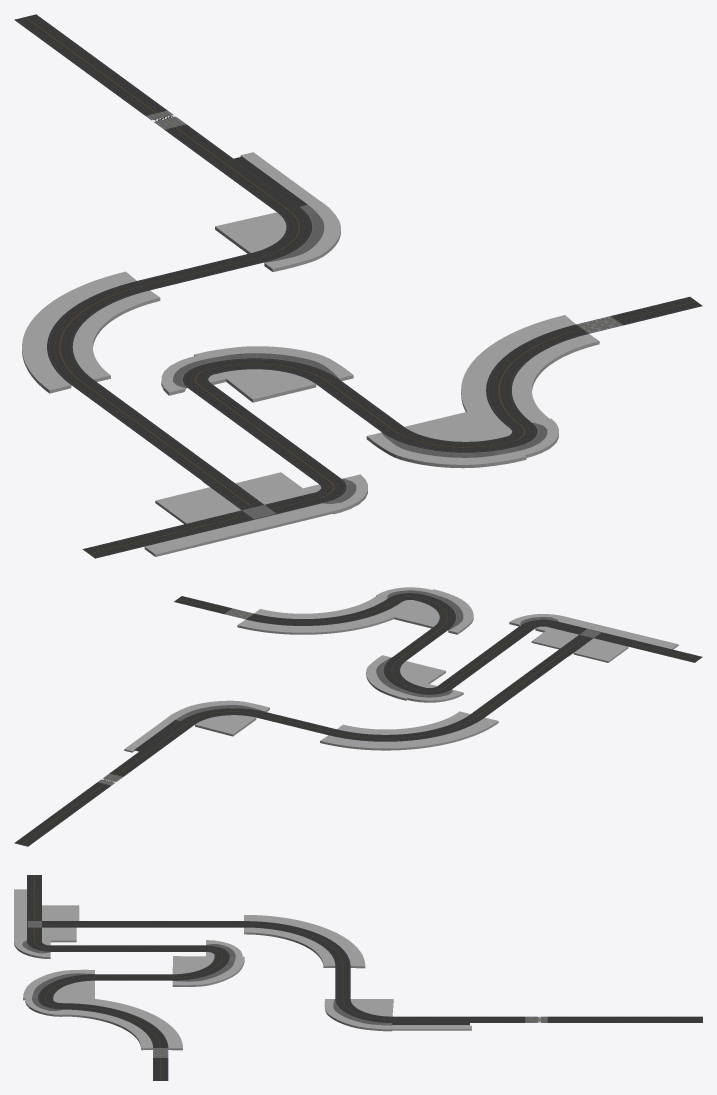
The model's file is level_5.fbx.
3 renders of one model, top to bottom at view 1: azimuth 30°, elevation 25°; view 2: azimuth 150°, elevation 25°; view 3: azimuth 270°, elevation 25°, orthographic. The views are drawn at different scales.
Parts seen in each view (by area): view 1: pCube2, road_line49, polySurface374, polySurface400, polySurface405, polySurface376, road_line53, polySurface404, polySurface401, pCube1, road_turn_roadsideR7, polySurface402 (+28 smaller); view 2: road_line49, road_turn_roadsideR5, road_turn_roadsideR, polySurface405, polySurface400, polySurface374, road_turn_roadsideR7, pCube2, polySurface404, road_line53, road_turn_roadsideR6, pCube1 (+25 smaller); view 3: road_line49, polySurface374, polySurface400, road_line53, polySurface405, pCube2, road_turn_roadsideR, road_turn_roadsideR5, polySurface376, road_turn_roadsideR6, polySurface404, road_turn_roadsideR7 (+26 smaller).
Part boxes in pixels (bbox=[...]): pCube2: bbox=[144, 503, 333, 556]; road_line49: bbox=[196, 476, 322, 530]; polySurface374: bbox=[201, 353, 338, 383]; polySurface400: bbox=[381, 427, 518, 457]; polySurface405: bbox=[251, 204, 324, 262]; polySurface376: bbox=[220, 369, 316, 402]; road_line53: bbox=[211, 156, 307, 211]; polySurface404: bbox=[215, 212, 286, 253]; polySurface401: bbox=[366, 432, 526, 468]; pCube1: bbox=[155, 487, 241, 524]; road_turn_roadsideR7: bbox=[22, 324, 71, 393]; polySurface402: bbox=[405, 411, 500, 441]; road_line49: bbox=[551, 621, 630, 656]; road_turn_roadsideR5: bbox=[320, 735, 419, 750]; road_turn_roadsideR: bbox=[237, 619, 336, 634]; polySurface405: bbox=[175, 705, 264, 724]; polySurface400: bbox=[418, 592, 463, 630]; polySurface374: bbox=[376, 657, 421, 694]; road_turn_roadsideR7: bbox=[415, 717, 498, 748]; pCube2: bbox=[559, 616, 678, 649]; polySurface404: bbox=[195, 715, 256, 736]; road_line53: bbox=[134, 720, 194, 754]; road_turn_roadsideR6: bbox=[333, 602, 415, 632]; pCube1: bbox=[573, 638, 628, 662]; road_line49: bbox=[27, 908, 88, 940]; polySurface374: bbox=[172, 956, 235, 981]; polySurface400: bbox=[32, 973, 94, 998]; road_line53: bbox=[392, 1016, 469, 1025]; polySurface405: bbox=[333, 999, 392, 1025]; pCube2: bbox=[14, 889, 26, 940]; road_turn_roadsideR: bbox=[137, 1012, 182, 1050]; road_turn_roadsideR5: bbox=[320, 930, 365, 968]; polySurface376: bbox=[172, 956, 214, 974]; road_turn_roadsideR6: bbox=[61, 997, 146, 1016]; polySurface404: bbox=[350, 999, 393, 1016]; road_turn_roadsideR7: bbox=[244, 915, 329, 934].
Size of the model in its own units: 62992 by 275 by 89059.
